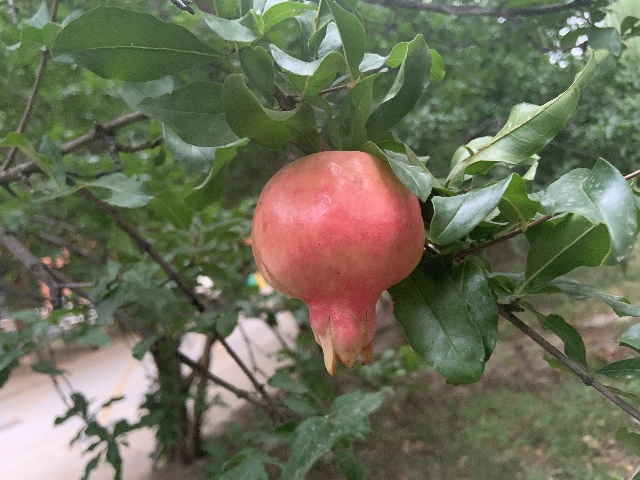ripe: (250, 149, 425, 376)
